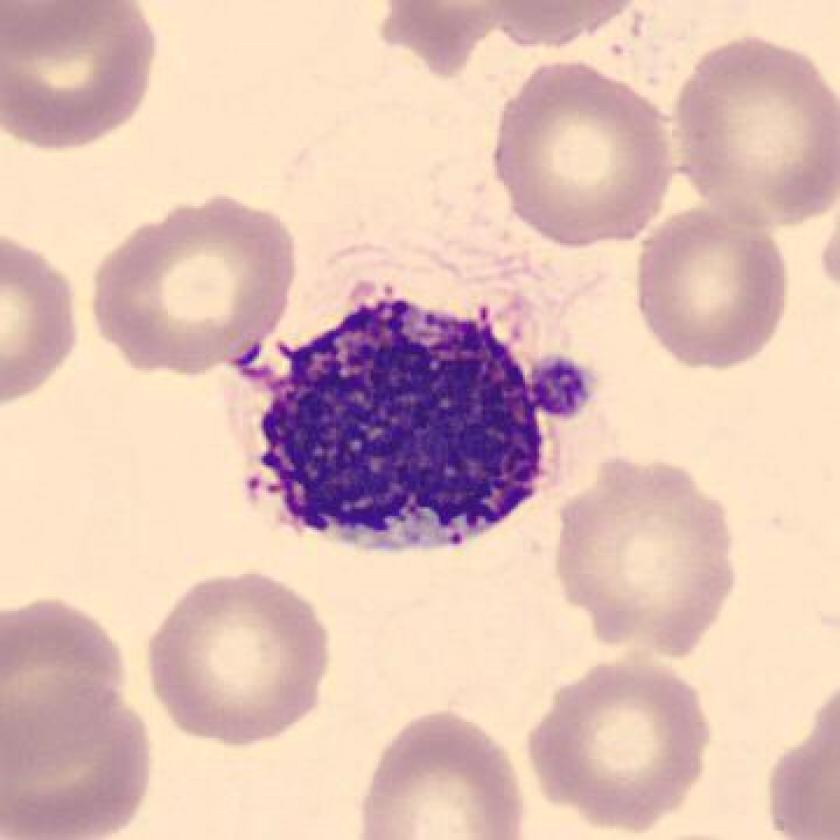basophil: (251, 290, 566, 568)
